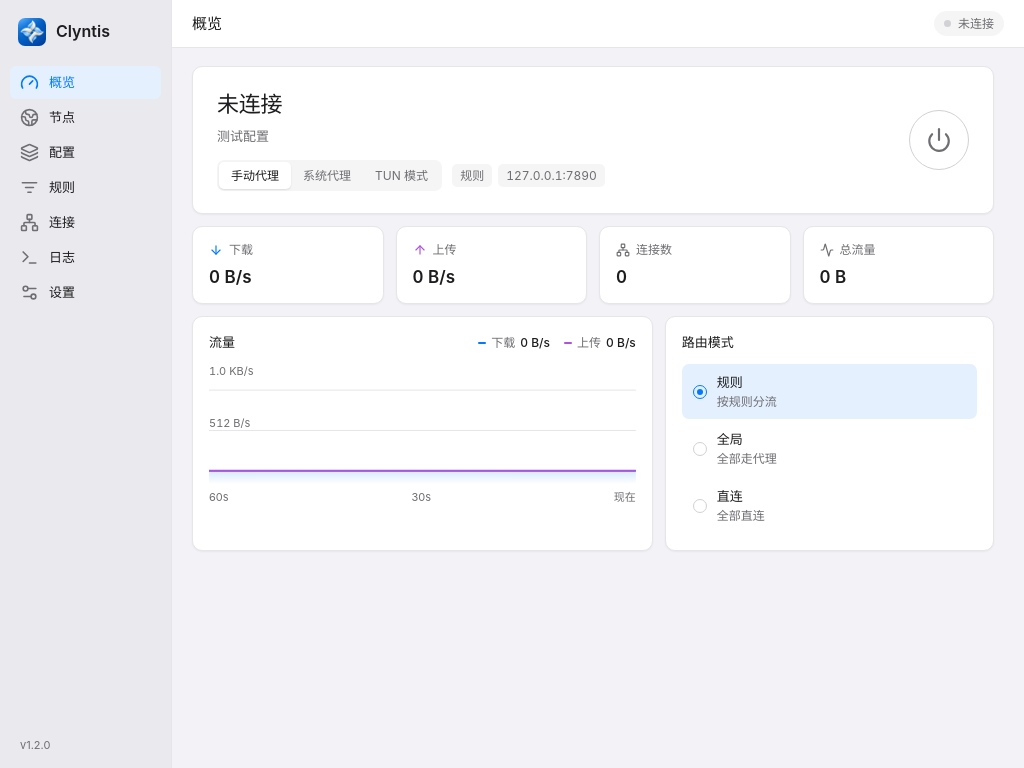
Test: desktop workflows › shows explicit permission errors instead of pretending to connect
Click the button named "启动连接".
click(939, 140)  # box [909, 110, 969, 170]
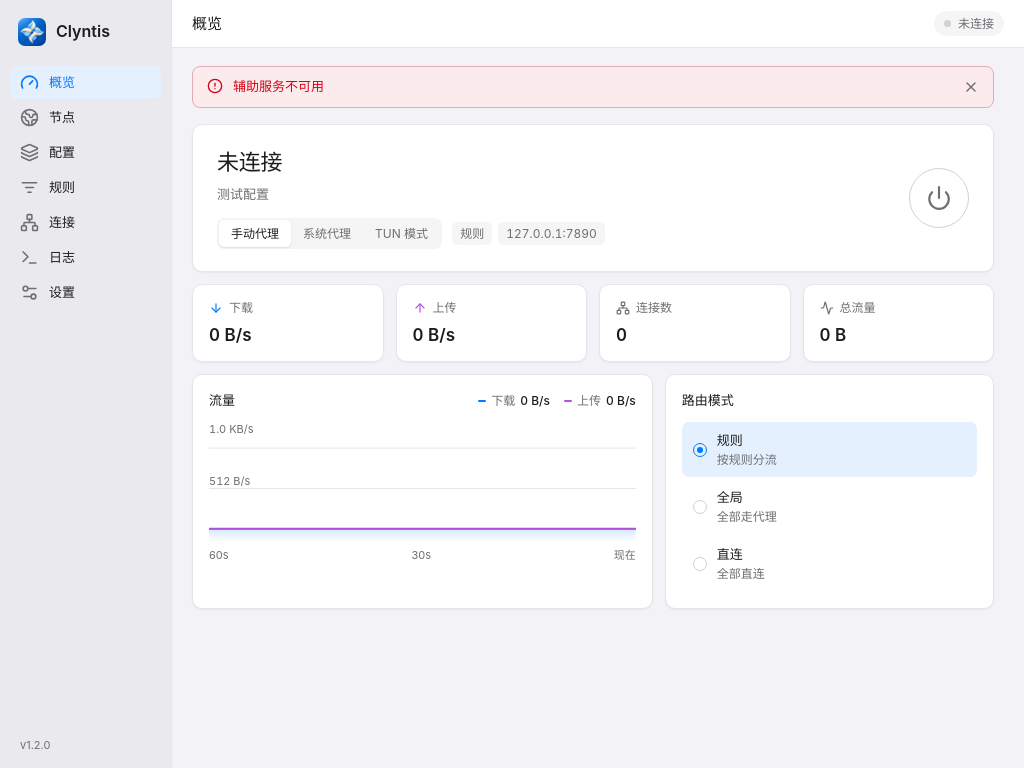
Expected: the text "未连接" is shown, [934, 11, 1004, 36]
Expected: the message reads "辅助服务不可用", [233, 78, 324, 94]
